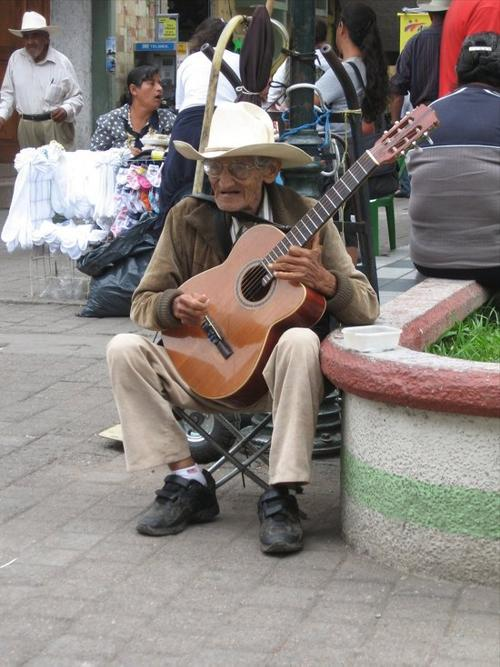person: (105, 101, 383, 561)
